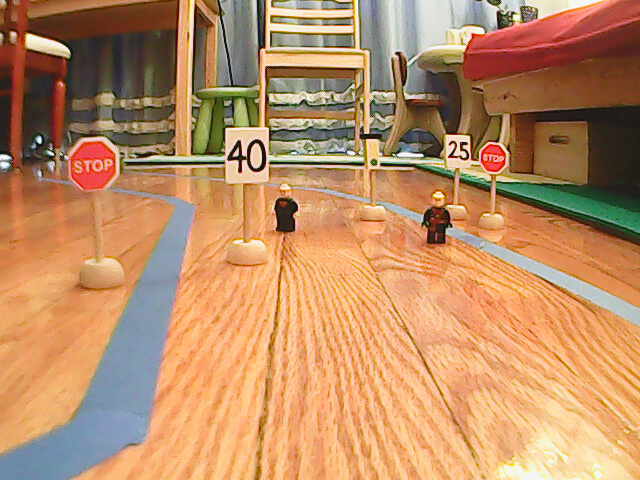Green Traffic Light: (360, 133, 383, 170)
Person: (421, 191, 454, 244), (271, 184, 300, 236)
Speed Limit 25: (442, 134, 472, 170)
Speed Limit 40: (220, 126, 270, 186)
Stop Sign: (63, 135, 123, 192), (478, 140, 510, 177)
